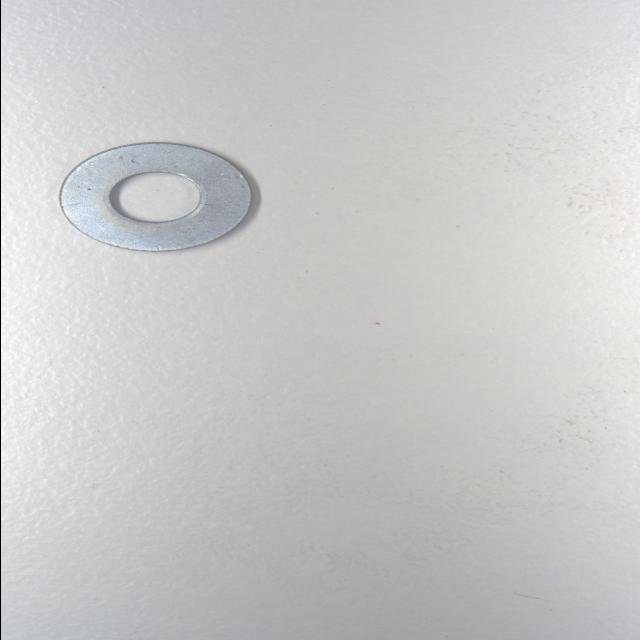washer: (56, 143, 254, 255)
